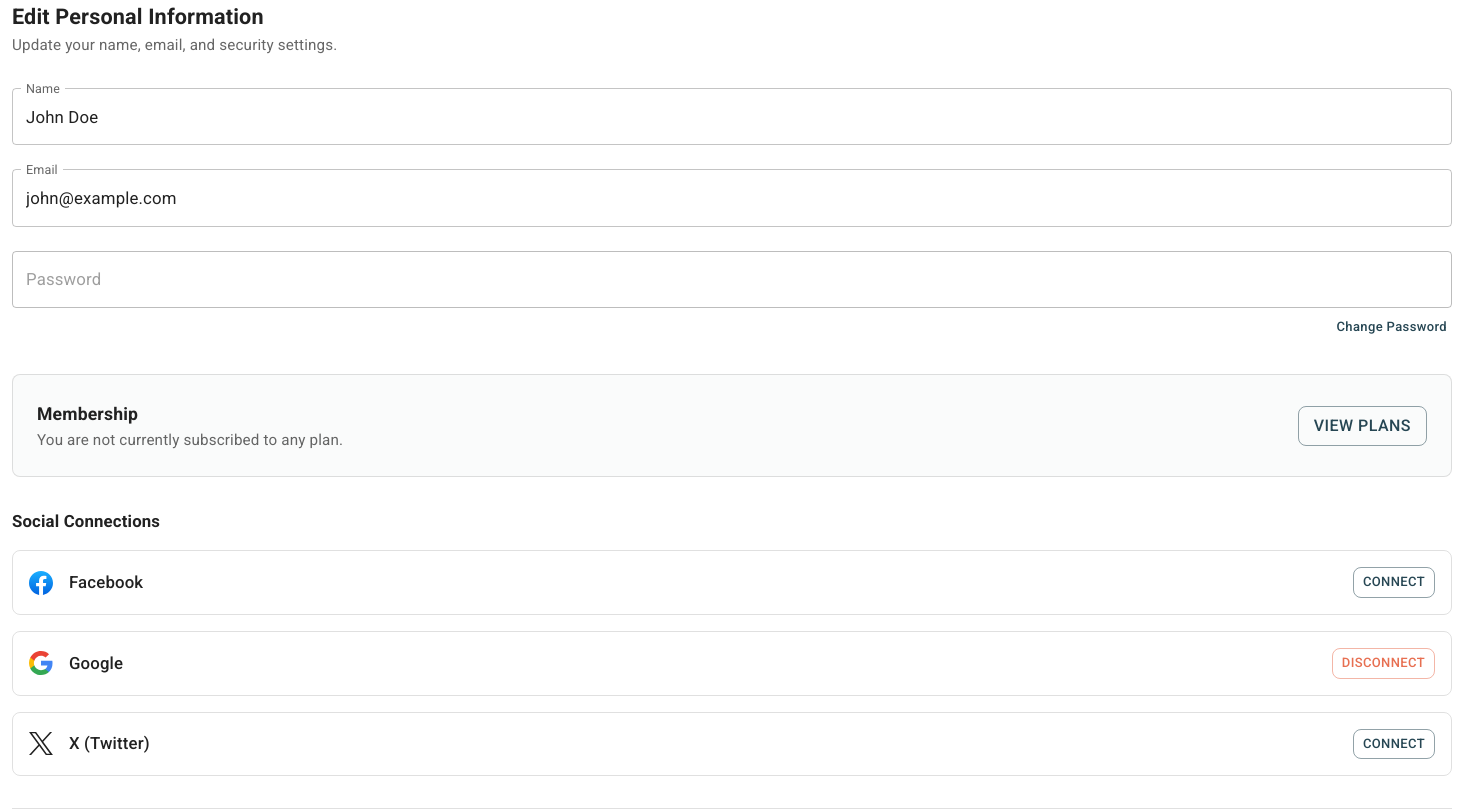
Test case: EditProfile › should toggle change password fields
Click the button "Change Password".
click(1392, 327)  # box [1332, 312, 1452, 342]
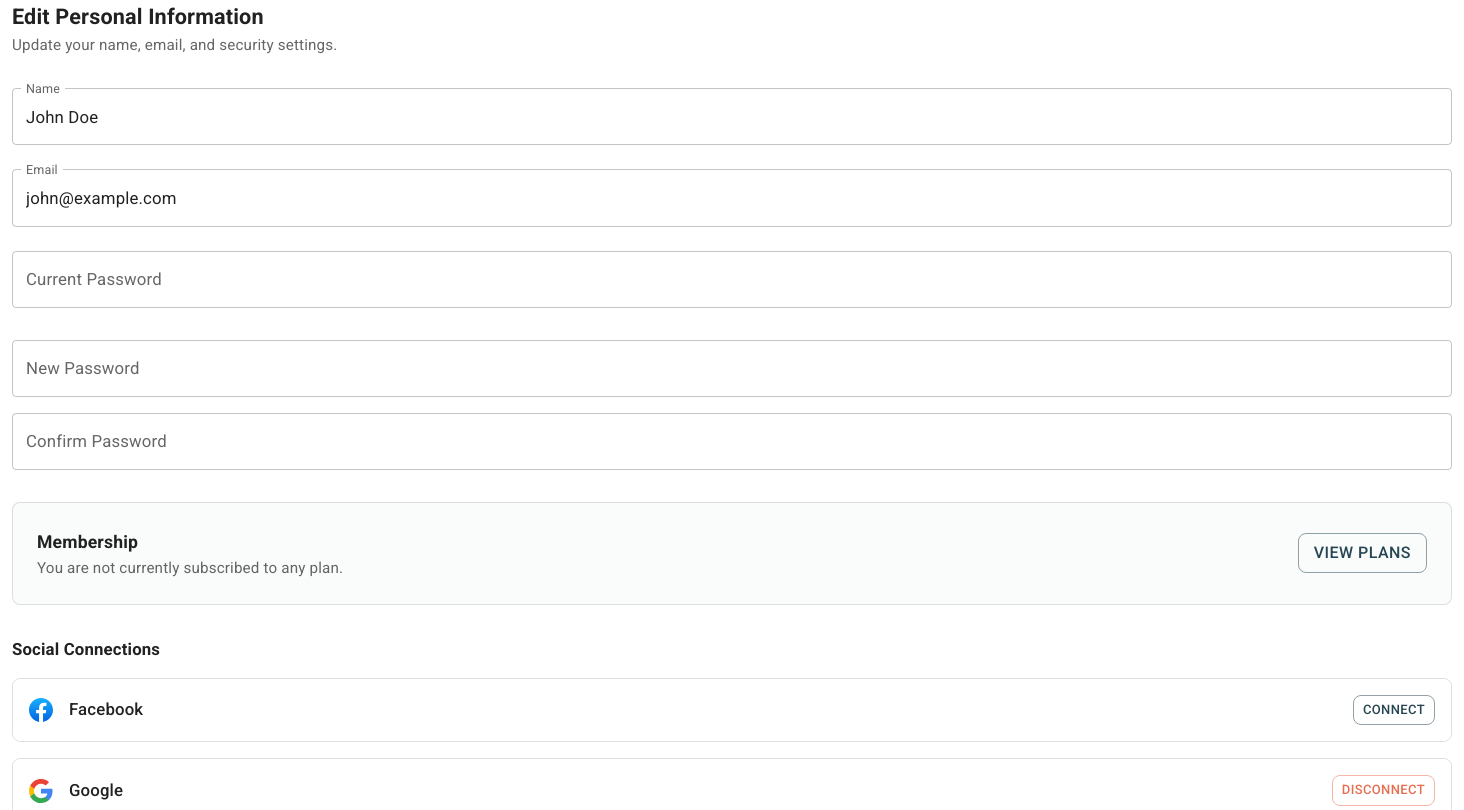
Result: the password field labelled "Current Password" is enabled at [12, 251, 1452, 308]
Result: the password field labelled "New Password" is shown at [12, 340, 1452, 397]
Result: the password field labelled "Confirm Password" is shown at [12, 413, 1452, 470]
